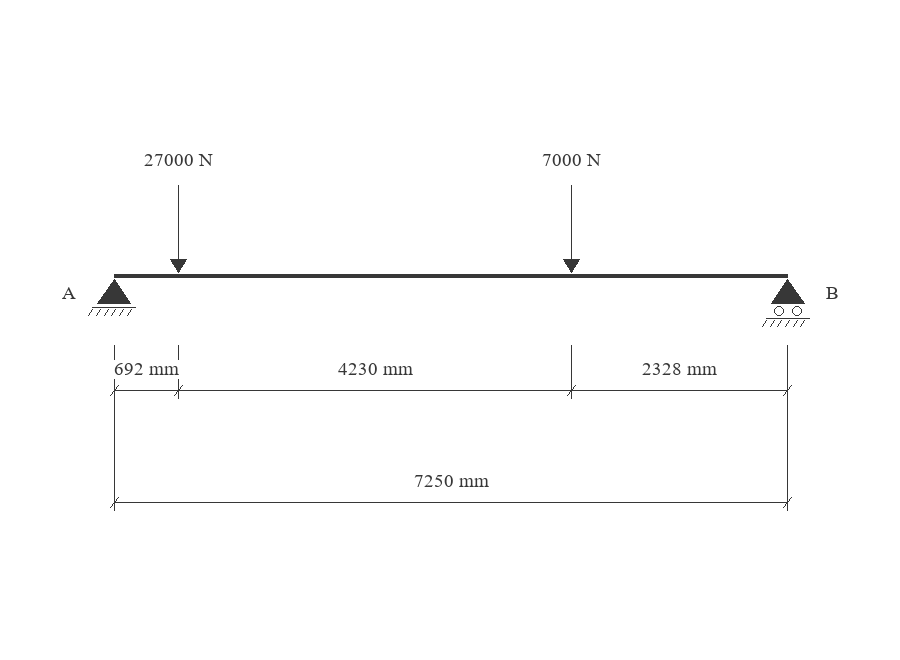pin_support: (88, 279, 136, 316)
point_load: (170, 185, 187, 273), (563, 185, 580, 273)
roller_support: (762, 279, 810, 327)
